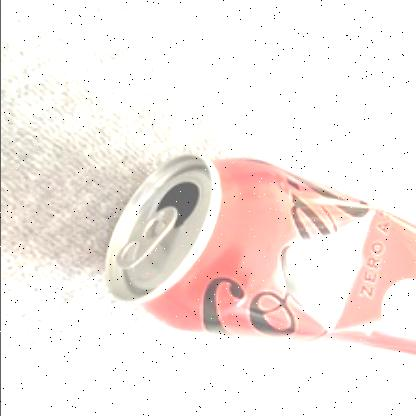Can: (102, 153, 416, 363)
